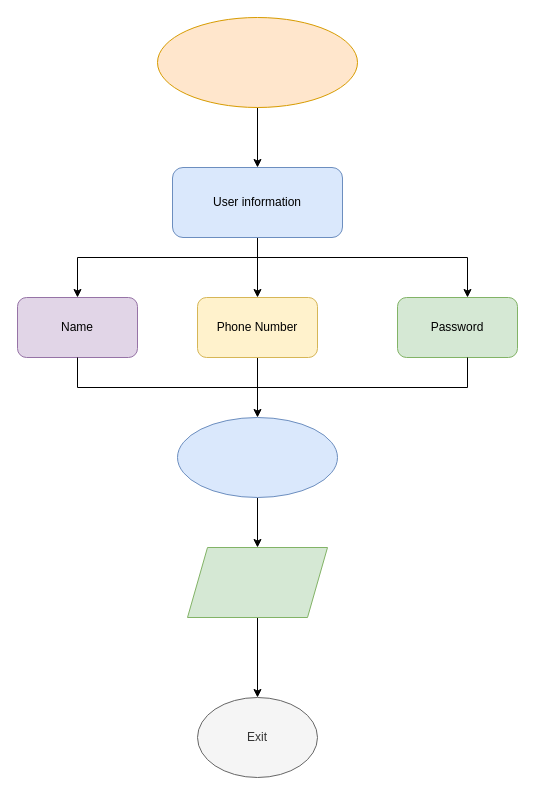
Image size: 535x795. Some labels were removed from this diagram. The shapes that lost their labels are listed below. From the top down, each one's centre as x and y in pixels, then its label:
(x=257, y=62): Banking Application
(x=257, y=457): Login
(x=257, y=582): Bank Details Option
